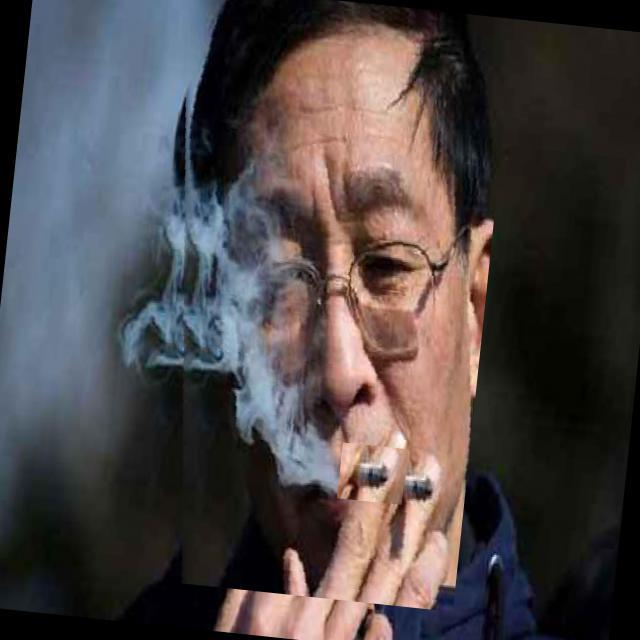cigarette: (337, 442, 408, 506)
